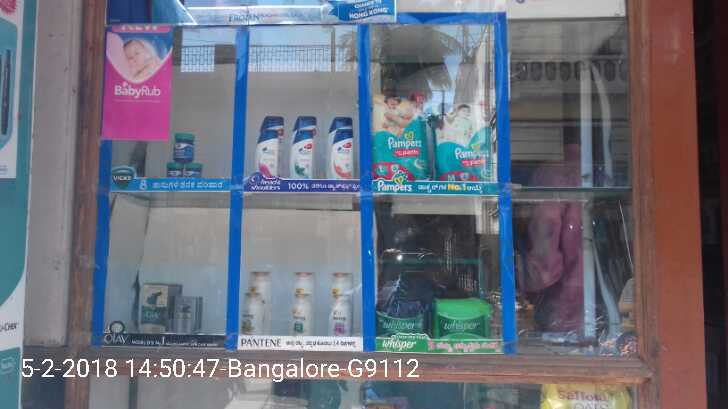vicks: (162, 127, 208, 183)
